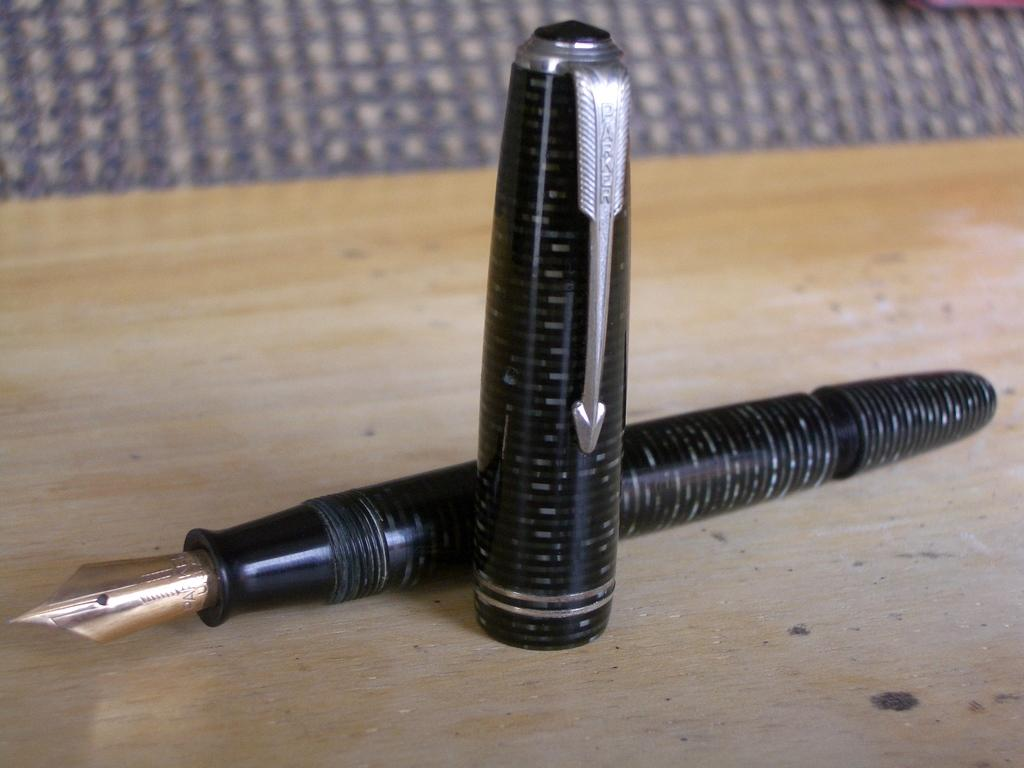pen: (5, 370, 998, 646)
